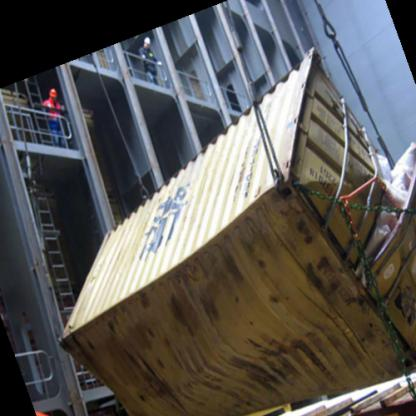Damage: (342, 122, 415, 280), (160, 229, 262, 318), (231, 316, 357, 382), (102, 317, 166, 405)
